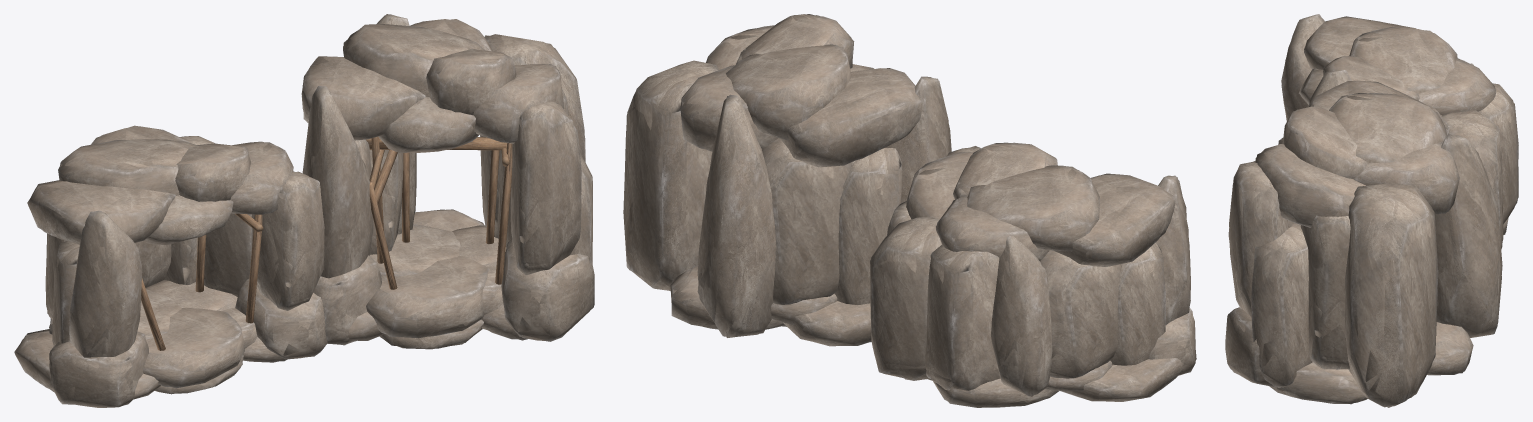
Rendered from Cave House 1A1.fbx.
3 renders of one model, left to right at view 1: azimuth 30°, elevation 25°; view 2: azimuth 150°, elevation 25°; view 3: azimuth 270°, elevation 25°, orthographic. The views are drawn at different scales.
Visible parts, largest first — view 1: Cave_House_1A2, Cave_House_1A1, Cave_House_1A2.001, Cave_House_1A1.001, Cave_House_1A2.002, Cave_House_1A1.002; view 2: Cave_House_1A2, Cave_House_1A1, Cave_House_1A2.001, Cave_House_1A1.001, Cave_House_1A2.002, Cave_House_1A1.002; view 3: Cave_House_1A2, Cave_House_1A2.001, Cave_House_1A2.002, Cave_House_1A1, Cave_House_1A1.001, Cave_House_1A1.002.
Part boxes in pixels (<box>): Cave_House_1A2: <box>301,14,593,349</box>; Cave_House_1A1: <box>16,129,325,407</box>; Cave_House_1A2.001: <box>301,14,594,348</box>; Cave_House_1A1.001: <box>15,126,324,407</box>; Cave_House_1A2.002: <box>302,14,594,348</box>; Cave_House_1A1.002: <box>14,125,327,406</box>; Cave_House_1A2: <box>624,14,951,345</box>; Cave_House_1A1: <box>870,142,1195,407</box>; Cave_House_1A2.001: <box>623,14,949,345</box>; Cave_House_1A1.001: <box>870,143,1195,407</box>; Cave_House_1A2.002: <box>623,14,948,346</box>; Cave_House_1A1.002: <box>870,143,1196,407</box>; Cave_House_1A2: <box>1225,70,1501,406</box>; Cave_House_1A2.001: <box>1225,71,1501,407</box>; Cave_House_1A2.002: <box>1225,70,1502,407</box>; Cave_House_1A1: <box>1281,14,1518,246</box>; Cave_House_1A1.001: <box>1281,16,1518,240</box>; Cave_House_1A1.002: <box>1282,14,1518,248</box>.
Size of the model in its own units: 3336 by 1589 by 1709.
